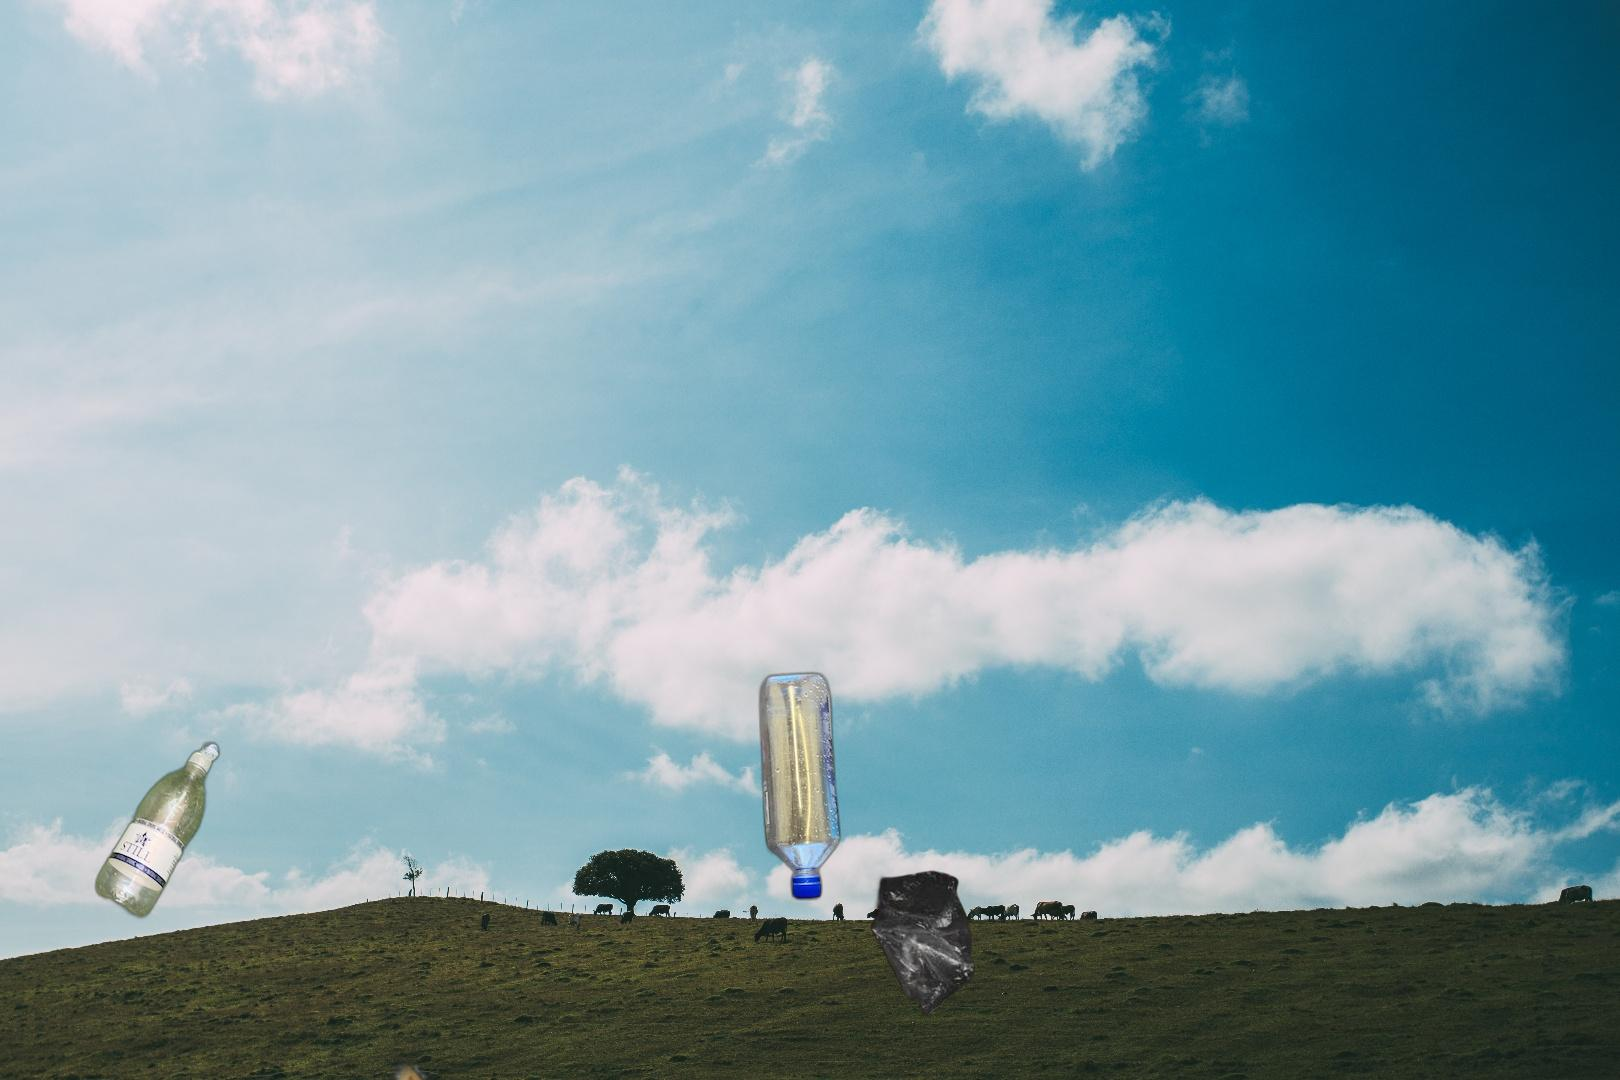plastic-bag: (868, 868, 978, 1020)
plastic-bottles: (92, 736, 224, 925), (755, 667, 845, 906)
trashbox-cardboard: (278, 996, 1479, 1080)
